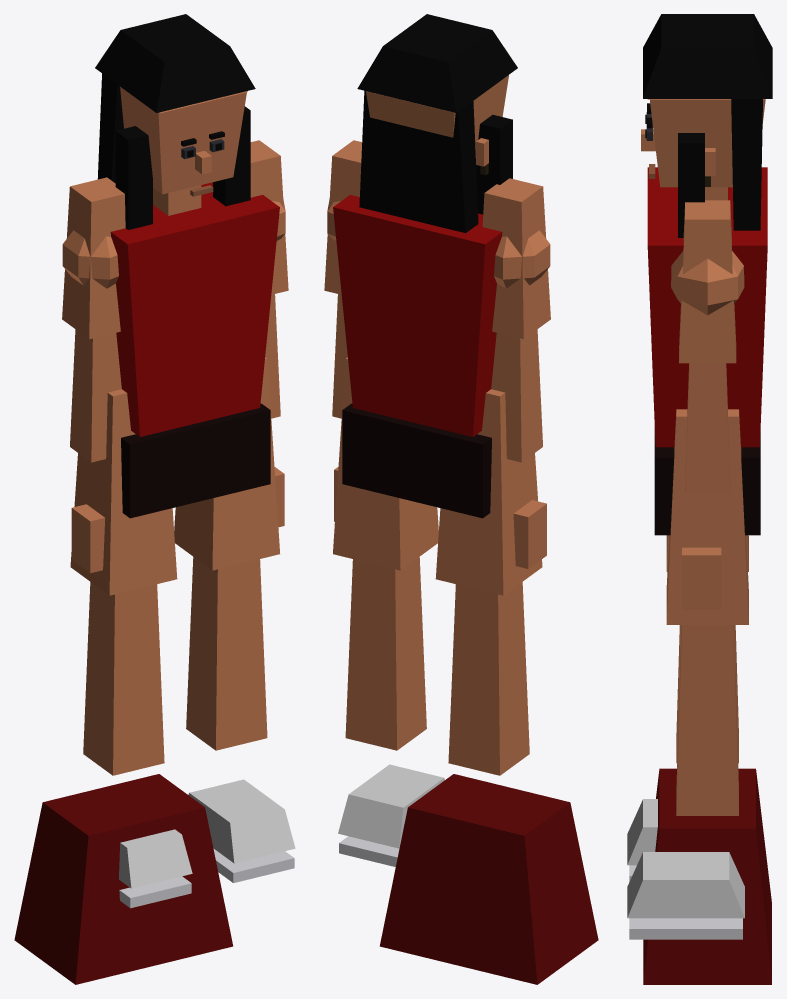
File: npc_mai_shiranui.glb
The picture shows the model from 3 angles, left to right: view 1: azimuth 30°, elevation 25°; view 2: azimuth 150°, elevation 25°; view 3: azimuth 270°, elevation 25°; orthographic projection. The views are drawn at different scales.
Parts seen in each view (by area): view 1: footR, torso, head, lowerLegR, lowerLegL, hips, upperLegR, upperArmR, upperLegL, footL, foreArmR, upperArmL (+1 smaller); view 2: footR, torso, head, lowerLegR, lowerLegL, hips, upperLegR, upperArmR, upperLegL, foreArmR, footL, upperArmL (+1 smaller); view 3: head, footR, torso, lowerLegL, upperLegL, footL, upperArmL, foreArmL, hips, lowerLegR.
Part boxes in pixels (x1,y1,x2,y2): footR: (14, 774, 233, 984); torso: (110, 182, 279, 436); head: (95, 14, 255, 229); lowerLegR: (83, 582, 164, 775); lowerLegL: (186, 557, 267, 750); hips: (121, 403, 270, 518); upperLegR: (70, 389, 177, 595); upperArmR: (62, 177, 125, 339); upperLegL: (174, 357, 279, 570); footL: (188, 779, 295, 882); foreArmR: (70, 329, 121, 573); upperArmL: (250, 140, 288, 294); footR: (379, 774, 598, 984); torso: (333, 195, 502, 436); head: (357, 14, 517, 233); lowerLegR: (448, 582, 529, 775); lowerLegL: (345, 557, 426, 750); hips: (342, 403, 491, 518); upperLegR: (435, 389, 542, 595); upperArmR: (482, 178, 550, 339); upperLegL: (333, 357, 438, 570); foreArmR: (491, 329, 546, 568); footL: (338, 764, 444, 866); upperArmL: (324, 140, 362, 294); head: (641, 14, 772, 237); footR: (627, 768, 771, 984); torso: (647, 167, 767, 447); lowerLegL: (676, 625, 738, 815); upperLegL: (666, 409, 748, 624); footL: (627, 852, 744, 939); upperArmL: (671, 200, 744, 363); foreArmL: (682, 363, 730, 609); hips: (654, 428, 760, 535); lowerLegR: (676, 625, 738, 763).
Bounding box in the file's own units: 0.5402 × 1.93 × 0.2707.
